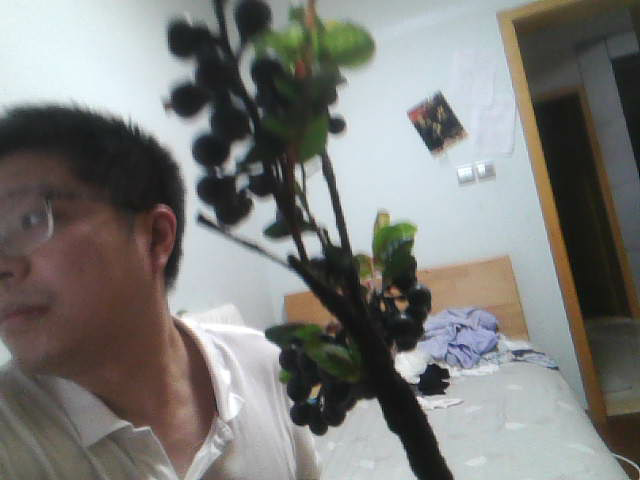blueberry: (295, 48, 344, 106), (232, 0, 276, 42), (245, 48, 288, 87), (252, 108, 286, 157), (154, 21, 198, 57), (155, 81, 201, 115), (186, 131, 229, 166), (211, 102, 248, 138), (183, 134, 226, 160), (323, 386, 350, 423), (397, 313, 423, 347), (285, 398, 316, 424)
